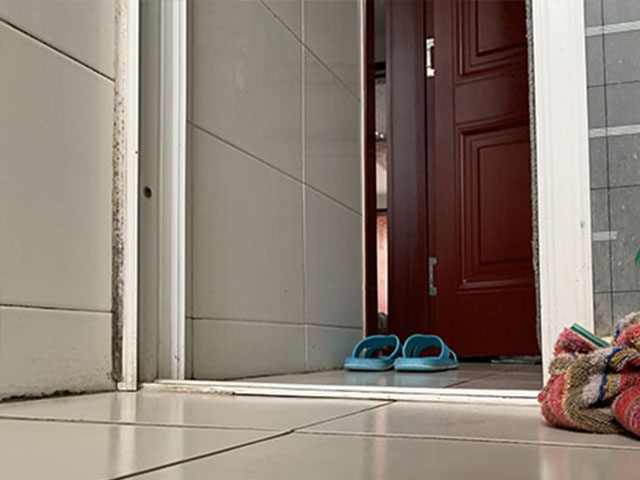slippers: (343, 330, 401, 374), (396, 334, 459, 370)
